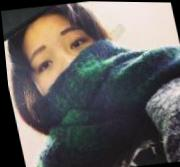WRONG: (19, 19, 116, 118)
